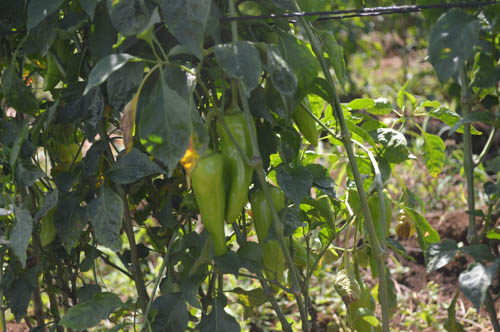ChiliPepper: (220, 117, 250, 227), (193, 154, 226, 252), (256, 190, 286, 282), (363, 196, 391, 258)
